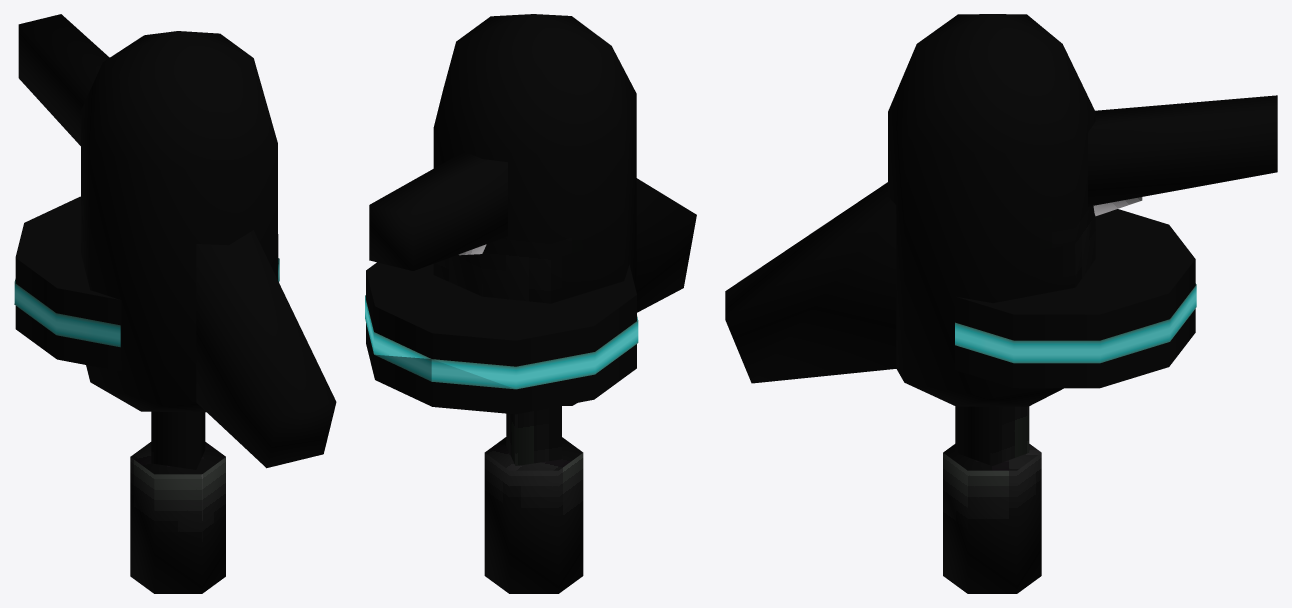
The model's file is enm_eggpawn_SD_gun.obj.
The picture shows the model from 3 angles, left to right: view 1: azimuth 30°, elevation 25°; view 2: azimuth 150°, elevation 25°; view 3: azimuth 270°, elevation 25°; orthographic projection. The views are drawn at different scales.
Parts seen in each view (by area): view 1: polygon0, polygon1; view 2: polygon0, polygon1; view 3: polygon0, polygon1.
Part boxes in pixels (x1=…): polygon0: x1=15, y1=14, x2=336, y2=593; polygon1: x1=14, y1=258, x2=279, y2=347; polygon0: x1=366, y1=14, x2=696, y2=593; polygon1: x1=365, y1=295, x2=638, y2=389; polygon0: x1=725, y1=14, x2=1277, y2=593; polygon1: x1=955, y1=283, x2=1196, y2=363.
Size of the model in its own units: 5.74 by 13.41 by 11.94.
2 materials, 2 textured.
